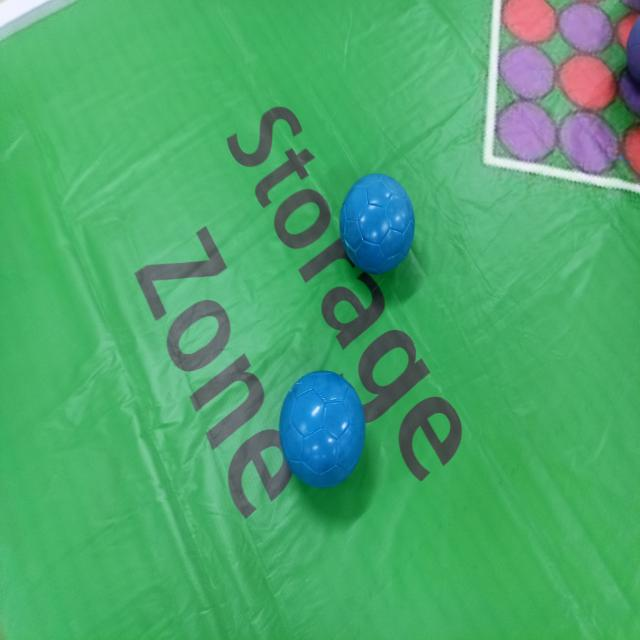blue_ball: (279, 364, 367, 494), (337, 159, 418, 277)
